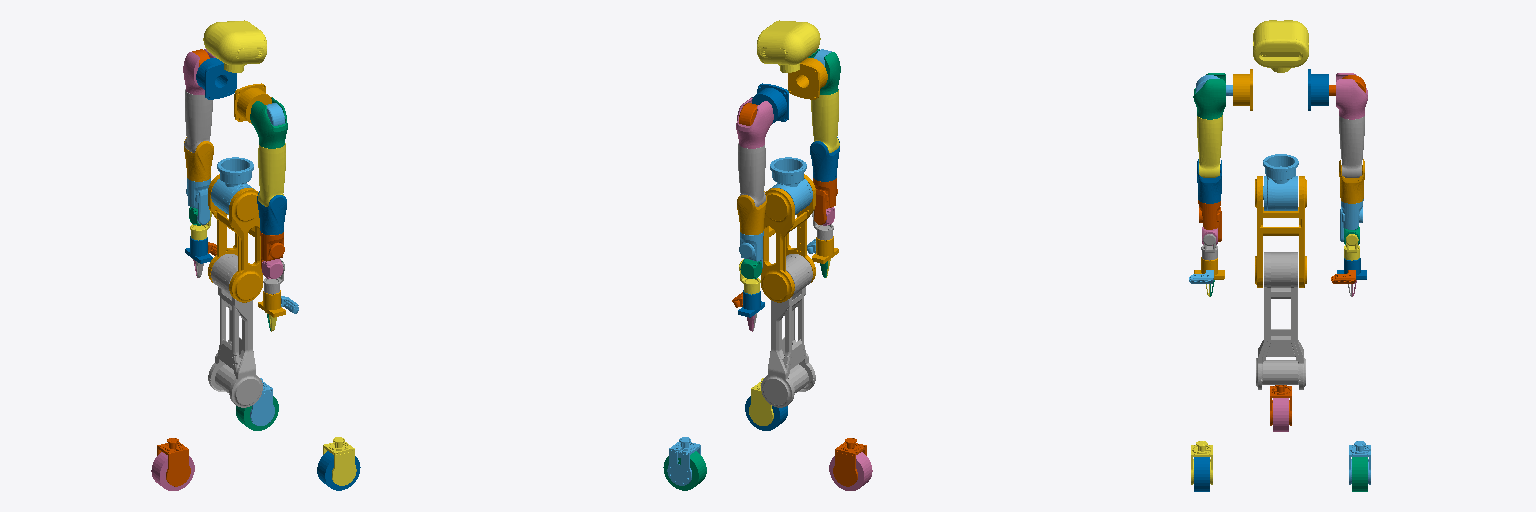
--- What the picture shows (computed from the rendered views, not written in the file) ---
Views: 3 orthographic renders of the robot side by side, from view 1: azimuth 30°, elevation 25°; view 2: azimuth 150°, elevation 25°; view 3: azimuth 270°, elevation 25°.
Robot: r1_pro_with_gripper — 36 links, 35 joints (21 revolute, 3 continuous, 4 prismatic, 7 fixed); root link base_link; default pose: every joint at zero.
Visible links, largest first — view 1: torso_link1, torso_link2, zed_link, torso_link3, right_arm_link3, left_arm_link3, left_arm_base_link, right_arm_link2, steer_motor_link3, steer_motor_link2, left_arm_link4, right_arm_link4 (+7 smaller); view 2: torso_link1, torso_link2, zed_link, torso_link3, left_arm_link3, right_arm_link3, right_arm_base_link, left_arm_link2, steer_motor_link3, steer_motor_link1, right_arm_link4, left_arm_link4 (+7 smaller); view 3: torso_link1, zed_link, torso_link2, torso_link3, right_arm_link3, left_arm_link3, right_arm_link2, left_arm_link2, left_arm_base_link, left_arm_link4, right_arm_link4, right_arm_base_link (+5 smaller).
Link boxes in pixels (<box>): torso_link1: <box>208,254,262,407</box>; torso_link2: <box>208,174,262,302</box>; zed_link: <box>203,20,266,72</box>; torso_link3: <box>211,157,253,214</box>; right_arm_link3: <box>258,143,285,206</box>; left_arm_link3: <box>184,89,212,152</box>; left_arm_base_link: <box>196,58,236,99</box>; right_arm_link2: <box>250,97,287,148</box>; steer_motor_link3: <box>157,438,190,486</box>; steer_motor_link2: <box>323,437,356,485</box>; left_arm_link4: <box>184,137,213,181</box>; right_arm_link4: <box>257,191,286,234</box>; torso_link1: <box>761,254,815,407</box>; torso_link2: <box>761,174,815,302</box>; zed_link: <box>757,20,820,72</box>; torso_link3: <box>770,157,812,214</box>; left_arm_link3: <box>738,143,765,206</box>; right_arm_link3: <box>811,90,839,152</box>; right_arm_base_link: <box>788,58,827,99</box>; left_arm_link2: <box>736,97,773,148</box>; steer_motor_link3: <box>833,438,866,486</box>; steer_motor_link1: <box>667,437,700,485</box>; right_arm_link4: <box>810,137,839,181</box>; left_arm_link4: <box>737,191,766,234</box>; torso_link1: <box>1256,252,1305,389</box>; zed_link: <box>1253,20,1308,72</box>; torso_link2: <box>1255,176,1306,287</box>; torso_link3: <box>1263,154,1298,210</box>; right_arm_link3: <box>1197,115,1222,177</box>; left_arm_link3: <box>1339,116,1364,177</box>; right_arm_link2: <box>1193,73,1225,119</box>; left_arm_link2: <box>1336,73,1367,119</box>; left_arm_base_link: <box>1308,69,1328,110</box>; left_arm_link4: <box>1339,159,1364,203</box>; right_arm_link4: <box>1197,159,1221,203</box>; right_arm_base_link: <box>1233,69,1252,110</box>.
Bounding box of the posed robot: 0.636 × 0.6465 × 1.7 m (x, y, z).
34 mesh visuals loaded from 36 distinct referenced files (34 OBJ); not drawn: 2 (reference not matched to a file when rendering).

The robot description file, URDF, robot "r1_pro_with_gripper":
<?xml version="1.0" encoding="utf-8"?>
<!-- This URDF was automatically created by SolidWorks to URDF Exporter! Originally created by Stephen Brawner ([email redacted]) 
     Commit Version: 1.6.0-4-g7f85cfe  Build Version: 1.6.7995.38578
     For more information, please see http://wiki.ros.org/sw_urdf_exporter -->
<robot
  name="r1_pro_with_gripper">
  <link
    name="base_link">
    <inertial>
      <origin
        xyz="-0.049262 -8.8054E-05 0.18255"
        rpy="0 0 0" />
      <mass
        value="47.63" />
      <inertia
        ixx="1.5812"
        ixy="-1.0625E-05"
        ixz="0.053601"
        iyy="1.4648"
        iyz="5.7054E-06"
        izz="2.835" />
    </inertial>
    <visual>
      <origin
        xyz="0 0 0"
        rpy="0 0 0" />
      <geometry>
        <mesh
          filename="meshes/base_link.obj" />
      </geometry>
    </visual>
    <collision>
      <origin
        xyz="0 0 0"
        rpy="0 0 0" />
      <geometry>
        <mesh
          filename="meshes/base_link.obj" />
      </geometry>
    </collision>
  </link>
  <link
    name="steer_motor_link1">
    <inertial>
      <origin
        xyz="7.7174E-06 -0.004623 -0.049428"
        rpy="0 0 0" />
      <mass
        value="1.5" />
      <inertia
        ixx="0.00022164"
        ixy="-3.529E-09"
        ixz="3.4267E-09"
        iyy="0.00032908"
        iyz="-7.5872E-08"
        izz="0.00015872" />
    </inertial>
    <visual>
      <origin
        xyz="0 0 0"
        rpy="0 0 0" />
      <geometry>
        <mesh
          filename="meshes/steer_motor_link1.obj" />
      </geometry>
    </visual>
    <collision>
      <origin
        xyz="0 0 0"
        rpy="0 0 0" />
      <geometry>
        <mesh
          filename="meshes/steer_motor_link1.obj" />
      </geometry>
    </collision>
  </link>
  <joint
    name="steer_motor_joint1"
    type="revolute">
    <origin
      xyz="0.16897 0.28 0.15765"
      rpy="0 0 0" />
    <parent
      link="base_link" />
    <child
      link="steer_motor_link1" />
    <axis
      xyz="0 0 1" />
    <limit
      lower="-3.1416"
      upper="3.1416"
      effort="50"
      velocity="20" />
  </joint>
  <link
    name="wheel_motor_link1">
    <inertial>
      <origin
        xyz="1.6481E-10 -1.6203E-10 -9.455E-10"
        rpy="0 0 0" />
      <mass
        value="1.5" />
      <inertia
        ixx="0.0012628"
        ixy="1.0701E-10"
        ixz="5.7971E-09"
        iyy="0.0020893"
        iyz="1.2406E-09"
        izz="0.0012628" />
    </inertial>
    <visual>
      <origin
        xyz="0 0 0"
        rpy="0 0 0" />
      <geometry>
        <mesh
          filename="meshes/wheel_motor_link1.obj" />
      </geometry>
    </visual>
    <collision>
      <origin
        xyz="0 0 0"
        rpy="0 0 0" />
      <geometry>
        <mesh
          filename="meshes/wheel_motor_link1.obj" />
      </geometry>
    </collision>
  </link>
  <joint
    name="wheel_motor_joint1"
    type="continuous">
    <origin
      xyz="0 0 -0.08765"
      rpy="0 0 0" />
    <parent
      link="steer_motor_link1" />
    <child
      link="wheel_motor_link1" />
    <axis
      xyz="0 1 0" />
  </joint>
  <link
    name="steer_motor_link2">
    <inertial>
      <origin
        xyz="6.044E-06 0.00010023 -0.052223"
        rpy="0 0 0" />
      <mass
        value="1.5" />
      <inertia
        ixx="0.0002535"
        ixy="-4.9113E-09"
        ixz="5.8918E-09"
        iyy="0.00037037"
        iyz="-2.9177E-07"
        izz="0.000163" />
    </inertial>
    <visual>
      <origin
        xyz="0 0 0"
        rpy="0 0 0" />
      <geometry>
        <mesh
          filename="meshes/steer_motor_link2.obj" />
      </geometry>
    </visual>
    <collision>
      <origin
        xyz="0 0 0"
        rpy="0 0 0" />
      <geometry>
        <mesh
          filename="meshes/steer_motor_link2.obj" />
      </geometry>
    </collision>
  </link>
  <joint
    name="steer_motor_joint2"
    type="revolute">
    <origin
      xyz="0.16897 -0.28 0.15765"
      rpy="0 0 0" />
    <parent
      link="base_link" />
    <child
      link="steer_motor_link2" />
    <axis
      xyz="0 0 1" />
    <limit
      lower="-3.1416"
      upper="3.1416"
      effort="50"
      velocity="20" />
  </joint>
  <link
    name="wheel_motor_link2">
    <inertial>
      <origin
        xyz="1.6448E-10 -1.616E-10 -9.4549E-10"
        rpy="0 0 0" />
      <mass
        value="1.5" />
      <inertia
        ixx="0.0012628"
        ixy="1.0701E-10"
        ixz="5.7971E-09"
        iyy="0.0020893"
        iyz="1.2406E-09"
        izz="0.0012628" />
    </inertial>
    <visual>
      <origin
        xyz="0 0 0"
        rpy="0 0 0" />
      <geometry>
        <mesh
          filename="meshes/wheel_motor_link2.obj" />
      </geometry>
    </visual>
    <collision>
      <origin
        xyz="0 0 0"
        rpy="0 0 0" />
      <geometry>
        <mesh
          filename="meshes/wheel_motor_link2.obj" />
      </geometry>
    </collision>
  </link>
  <joint
    name="wheel_motor_joint2"
    type="continuous">
    <origin
      xyz="0 0 -0.08765"
      rpy="0 0 0" />
    <parent
      link="steer_motor_link2" />
    <child
      link="wheel_motor_link2" />
    <axis
      xyz="0 1 0" />
  </joint>
  <link
    name="steer_motor_link3">
    <inertial>
      <origin
        xyz="-6.029E-06 -0.00010167 -0.052221"
        rpy="0 0 0" />
      <mass
        value="1.5" />
      <inertia
        ixx="0.0002535"
        ixy="-4.6767E-09"
        ixz="-3.5903E-09"
        iyy="0.00037036"
        iyz="2.9246E-07"
        izz="0.000163" />
    </inertial>
    <visual>
      <origin
        xyz="0 0 0"
        rpy="0 0 0" />
      <geometry>
        <mesh
          filename="meshes/steer_motor_link3.obj" />
      </geometry>
    </visual>
    <collision>
      <origin
        xyz="0 0 0"
        rpy="0 0 0" />
      <geometry>
        <mesh
          filename="meshes/steer_motor_link3.obj" />
      </geometry>
    </collision>
  </link>
  <joint
    name="steer_motor_joint3"
    type="revolute">
    <origin
      xyz="-0.32703 0 0.15765"
      rpy="0 0 0" />
    <parent
      link="base_link" />
    <child
      link="steer_motor_link3" />
    <axis
      xyz="0 0 1" />
    <limit
      lower="-3.1416"
      upper="3.1416"
      effort="50"
      velocity="20" />
  </joint>
  <link
    name="wheel_motor_link3">
    <inertial>
      <origin
        xyz="-2.443E-09 1.4779E-12 5.1754E-12"
        rpy="0 0 0" />
      <mass
        value="1.5" />
      <inertia
        ixx="0.0012628"
        ixy="1.1439E-10"
        ixz="5.7894E-09"
        iyy="0.0020893"
        iyz="1.2052E-09"
        izz="0.0012628" />
    </inertial>
    <visual>
      <origin
        xyz="0 0 0"
        rpy="0 0 0" />
      <geometry>
        <mesh
          filename="meshes/wheel_motor_link3.obj" />
      </geometry>
    </visual>
    <collision>
      <origin
        xyz="0 0 0"
        rpy="0 0 0" />
      <geometry>
        <mesh
          filename="meshes/wheel_motor_link3.obj" />
      </geometry>
    </collision>
  </link>
  <joint
    name="wheel_motor_joint3"
    type="continuous">
    <origin
      xyz="0 0 -0.08765"
      rpy="0 0 0" />
    <parent
      link="steer_motor_link3" />
    <child
      link="wheel_motor_link3" />
    <axis
      xyz="0 1 0" />
  </joint>
  <link
    name="torso_link1">
    <inertial>
      <origin
        xyz="0.00065636 0.0032244 0.23142"
        rpy="0 0 0" />
      <mass
        value="5.72" />
      <inertia
        ixx="0.10931"
        ixy="7.7894E-06"
        ixz="-0.00017473"
        iyy="0.10736"
        iyz="0.00013778"
        izz="0.0081222" />
    </inertial>
    <visual>
      <origin
        xyz="0 0 0"
        rpy="0 0 0" />
      <geometry>
        <mesh
          filename="meshes/torso_link1.obj" />
      </geometry>
    </visual>
    <collision>
      <origin
        xyz="0 0 0"
        rpy="0 0 0" />
      <geometry>
        <mesh
          filename="meshes/torso_link1.obj" />
      </geometry>
    </collision>
  </link>
  <joint
    name="torso_joint1"
    type="revolute">
    <origin
      xyz="-0.079032 0 0.34265"
      rpy="0 0 0" />
    <parent
      link="base_link" />
    <child
      link="torso_link1" />
    <axis
      xyz="0 1 0" />
    <limit
      lower="-1.1345"
      upper="1.8326"
      effort="100"
      velocity="2.5" />
  </joint>
  <link
    name="torso_link2">
    <inertial>
      <origin
        xyz="0.0052517 0.014411 0.15711"
        rpy="0 0 0" />
      <mass
        value="3.5" />
      <inertia
        ixx="0.026081"
        ixy="-3.3436E-07"
        ixz="0.00024541"
        iyy="0.027574"
        iyz="4.2283E-07"
        izz="0.0018515" />
    </inertial>
    <visual>
      <origin
        xyz="0 0 0"
        rpy="0 0 0" />
      <geometry>
        <mesh
          filename="meshes/torso_link2.obj" />
      </geometry>
    </visual>
    <collision>
      <origin
        xyz="0 0 0"
        rpy="0 0 0" />
      <geometry>
        <mesh
          filename="meshes/torso_link2.obj" />
      </geometry>
    </collision>
  </link>
  <joint
    name="torso_joint2"
    type="revolute">
    <origin
      xyz="0 0 0.4"
      rpy="0 0 0" />
    <parent
      link="torso_link1" />
    <child
      link="torso_link2" />
    <axis
      xyz="0 1 0" />
    <limit
      lower="-2.7925"
      upper="2.5307"
      effort="100"
      velocity="2.5" />
  </joint>
  <link
    name="torso_link3">
    <inertial>
      <origin
        xyz="-9.8337E-07 -0.0055146 0.020182"
        rpy="0 0 0" />
      <mass
        value="3.4" />
      <inertia
        ixx="0.0016099"
        ixy="3.5899E-07"
        ixz="2.5497E-07"
        iyy="0.0023011"
        iyz="1.367E-05"
        izz="0.0017027" />
    </inertial>
    <visual>
      <origin
        xyz="0 0 0"
        rpy="0 0 0" />
      <geometry>
        <mesh
          filename="meshes/torso_link3.obj" />
      </geometry>
    </visual>
    <collision>
      <origin
        xyz="0 0 0"
        rpy="0 0 0" />
      <geometry>
        <mesh
          filename="meshes/torso_link3.obj" />
      </geometry>
    </collision>
  </link>
  <joint
    name="torso_joint3"
    type="revolute">
    <origin
      xyz="0 0.0001005 0.3"
      rpy="0 0 0" />
    <parent
      link="torso_link2" />
    <child
      link="torso_link3" />
    <axis
      xyz="0 -1 0" />
    <limit
      lower="-1.8326"
      upper="1.5708"
      effort="100"
      velocity="2.5" />
  </joint>
  <link
    name="torso_link4">
    <inertial>
      <origin
        xyz="0.0049601 -1.2497E-05 0.21237"
        rpy="0 0 0" />
      <mass
        value="5" />
      <inertia
        ixx="0.026836"
        ixy="1.3048E-05"
        ixz="-0.00014074"
        iyy="0.013023"
        iyz="4.6641E-07"
        izz="0.021541" />
    </inertial>
    <visual>
      <origin
        xyz="0 0 0"
        rpy="0 0 0" />
      <geometry>
        <mesh
          filename="meshes/torso_link4.obj" />
      </geometry>
    </visual>
    <collision>
      <origin
        xyz="0 0 0"
        rpy="0 0 0" />
      <geometry>
        <mesh
          filename="meshes/torso_link4.obj" />
      </geometry>
    </collision>
  </link>
  <joint
    name="torso_joint4"
    type="revolute">
    <origin
      xyz="0 -0.00010015 0.09962"
      rpy="0 0 0" />
    <parent
      link="torso_link3" />
    <child
      link="torso_link4" />
    <axis
      xyz="0 0 1" />
    <limit
      lower="-3.0543"
      upper="3.0543"
      effort="100"
      velocity="2.5" />
  </joint>
  <link
    name="zed_link">
    <inertial>
      <origin
        xyz="0.060004 0.015906 -0.068413"
        rpy="0 0 0" />
      <mass
        value="2.05" />
      <inertia
        ixx="0.010375"
        ixy="1.8965E-07"
        ixz="1.3342E-08"
        iyy="0.014618"
        iyz="0.00028961"
        izz="0.012229" />
    </inertial>
    <visual>
      <origin
        xyz="0 0 0"
        rpy="0 0 0" />
      <geometry>
        <mesh
          filename="meshes/zed_link.obj" />
      </geometry>
    </visual>
    <collision>
      <origin
        xyz="0 0 0"
        rpy="0 0 0" />
      <geometry>
        <mesh
          filename="meshes/zed_link.obj" />
      </geometry>
    </collision>
  </link>
  <joint
    name="zed_joint"
    type="fixed">
    <origin
      xyz="0.065511 0.060003 0.47598"
      rpy="-1.9199 0 -1.5708" />
    <parent
      link="torso_link4" />
    <child
      link="zed_link" />
    <axis
      xyz="0 0 0" />
  </joint>
  <link
    name="left_arm_base_link">
    <inertial>
      <origin
        xyz="0.00026981 0.034587 1.3734E-08"
        rpy="0 0 0" />
      <mass
        value="1.48" />
      <inertia
        ixx="0.0010298"
        ixy="5.2194E-06"
        ixz="-1.2182E-07"
        iyy="0.0014076"
        iyz="-3.9334E-09"
        izz="0.0010201" />
    </inertial>
    <visual>
      <origin
        xyz="0 0 0"
        rpy="0 0 0" />
      <geometry>
        <mesh
          filename="meshes/left_arm_base_link.obj" />
      </geometry>
    </visual>
    <collision>
      <origin
        xyz="0 0 0"
        rpy="0 0 0" />
      <geometry>
        <mesh
          filename="meshes/left_arm_base_link.obj" />
      </geometry>
    </collision>
  </link>
  <joint
    name="left_arm_base_joint"
    type="fixed">
    <origin
      xyz="-0.00048618 0.097234 0.30302"
      rpy="0 0 0" />
    <parent
      link="torso_link4" />
    <child
      link="left_arm_base_link" />
    <axis
      xyz="0 0 0" />
  </joint>
  <link
    name="left_arm_link1">
    <inertial>
      <origin
        xyz="0.00042258 0.074131 7.9156E-05"
        rpy="0 0 0" />
      <mass
        value="1.135" />
      <inertia
        ixx="0.00061603"
        ixy="-1.1635E-06"
        ixz="-6.9725E-07"
        iyy="0.00030259"
        iyz="-6.2894E-07"
        izz="0.00047136" />
    </inertial>
    <visual>
      <origin
        xyz="0 0 0"
        rpy="0 0 0" />
      <geometry>
        <mesh
          filename="meshes/left_arm_link1.obj" />
      </geometry>
    </visual>
    <collision>
      <origin
        xyz="0 0 0"
        rpy="0 0 0" />
      <geometry>
        <mesh
          filename="meshes/left_arm_link1.obj" />
      </geometry>
    </collision>
  </link>
  <joint
    name="left_arm_joint1"
    type="revolute">
    <origin
      xyz="0 0.0735 0"
      rpy="0 0 0" />
    <parent
      link="left_arm_base_link" />
    <child
      link="left_arm_link1" />
    <axis
      xyz="0 1 0" />
    <limit
      lower="-4.4506"
      upper="1.3090"
      effort="55"
      velocity="7.1209" />
  </joint>
  <link
    name="left_arm_link2">
    <inertial>
      <origin
        xyz="-0.026826 -0.0040392 -0.031835"
        rpy="0 0 0" />
      <mass
        value="0.92" />
      <inertia
        ixx="0.00037378"
        ixy="-7.5909E-07"
        ixz="2.9042E-06"
        iyy="0.00033872"
        iyz="1.2166E-05"
        izz="0.00032361" />
    </inertial>
    <visual>
      <origin
        xyz="0 0 0"
        rpy="0 0 0" />
      <geometry>
        <mesh
          filename="meshes/left_arm_link2.obj" />
      </geometry>
    </visual>
    <collision>
      <origin
        xyz="0 0 0"
        rpy="0 0 0" />
      <geometry>
        <mesh
          filename="meshes/left_arm_link2.obj" />
      </geometry>
    </collision>
  </link>
  <joint
    name="left_arm_joint2"
    type="revolute">
    <origin
      xyz="0.025012 0.081265 0"
      rpy="0 0 0" />
    <parent
      link="left_arm_link1" />
    <child
      link="left_arm_link2" />
    <axis
      xyz="1 0 0" />
    <limit
      lower="-0.1745"
      upper="3.1416"
      effort="55"
      velocity="7.1209" />
  </joint>
  <link
    name="left_arm_link3">
    <inertial>
      <origin
        xyz="0.0053849 -0.00086892 -0.1126"
        rpy="0 0 0" />
      <mass
        value="1.245" />
      <inertia
        ixx="0.00072339"
        ixy="-3.3477E-06"
        ixz="-0.00012824"
        iyy="0.00073856"
        iyz="-8.3574E-06"
        izz="0.00037352" />
    </inertial>
    <visual>
      <origin
        xyz="0 0 0"
        rpy="0 0 0" />
      <geometry>
        <mesh
          filename="meshes/left_arm_link3.obj" />
      </geometry>
    </visual>
    <collision>
      <origin
        xyz="0 0 0"
        rpy="0 0 0" />
      <geometry>
        <mesh
          filename="meshes/left_arm_link3.obj" />
      </geometry>
    </collision>
  </link>
  <joint
    name="left_arm_joint3"
    type="revolute">
    <origin
      xyz="-0.025012 0 -0.1155"
      rpy="0 0 0" />
    <parent
      link="left_arm_link2" />
    <child
      link="left_arm_link3" />
    <axis
      xyz="0 0 1" />
    <limit
      lower="-2.356196"
      upper="2.356196"
      effort="25"
      velocity="8.3776" />
  </joint>
  <link
    name="left_arm_link4">
    <inertial>
      <origin
        xyz="-0.0011018 -0.036243 -0.042164"
        rpy="0 0 0" />
      <mass
        value="0.827" />
      <inertia
        ixx="0.00013884"
        ixy="7.8394E-08"
        ixz="3.5926E-06"
        iyy="0.00019751"
        iyz="1.4227E-06"
        izz="0.00010229" />
    </inertial>
    <visual>
      <origin
        xyz="0 0 0"
        rpy="0 0 0" />
      <geometry>
        <mesh
          filename="meshes/left_arm_link4.obj" />
      </geometry>
    </visual>
    <collision>
      <origin
        xyz="0 0 0"
        rpy="0 0 0" />
      <geometry>
        <mesh
          filename="meshes/left_arm_link4.obj" />
      </geometry>
    </collision>
  </link>
  <joint
    name="left_arm_joint4"
    type="revolute">
    <origin
      xyz="0 0.035065 -0.1945"
      rpy="0 0 0" />
    <parent
      link="left_arm_link3" />
    <child
      link="left_arm_link4" />
    <axis
      xyz="0 1 0" />
    <limit
      lower="-2.0944"
      upper="0.3491"
      effort="25"
      velocity="8.3776" />
  </joint>
  <link
    name="left_arm_link5">
    <inertial>
      <origin
        xyz="3.7881E-07 -0.0028035 -0.062981"
        rpy="0 0 0" />
      <mass
        value="0.939" />
      <inertia
        ixx="0.00070496"
        ixy="1.4329E-08"
        ixz="-2.9036E-09"
        iyy="0.00067006"
        iyz="-5.1951E-05"
        izz="0.00032998" />
    </inertial>
    <visual>
      <origin
        xyz="0 0 0"
        rpy="0 0 0" />
      <geometry>
        <mesh
          filename="meshes/left_arm_link5.obj" />
      </geometry>
    </visual>
    <collision>
      <origin
        xyz="0 0 0"
        rpy="0 0 0" />
      <geometry>
        <mesh
          filename="meshes/left_arm_link5.obj" />
      </geometry>
    </collision>
  </link>
  <joint
    name="left_arm_joint5"
    type="revolute">
    <origin
      xyz="0 -0.035065 -0.095"
      rpy="0 0 0" />
    <parent
      link="left_arm_link4" />
    <child
      link="left_arm_link5" />
    <axis
      xyz="0 0 1" />
    <limit
      lower="-2.356196"
      upper="2.356196"
      effort="18"
      velocity="10.4720" />
  </joint>
  <link
    name="left_arm_link6">
    <inertial>
      <origin
        xyz="0.0017919 0.027487 0.00025471"
        rpy="0 0 0" />
      <mass
        value="0.527" />
      <inertia
        ixx="8.5442E-05"
        ixy="-1.5351E-07"
        ixz="8.3797E-07"
        iyy="8.1186E-05"
        iyz="-2.1972E-08"
        izz="8.2736E-05" />
    </inertial>
    <visual>
      <origin
        xyz="0 0 0"
        rpy="0 0 0" />
      <geometry>
        <mesh
          filename="meshes/left_arm_link6.obj" />
      </geometry>
    </visual>
    <collision>
      <origin
        xyz="0 0 0"
        rpy="0 0 0" />
      <geometry>
        <mesh
          filename="meshes/left_arm_link6.obj" />
      </geometry>
    </collision>
  </link>
  <joint
    name="left_arm_joint6"
    type="revolute">
    <origin
      xyz="0 -0.028 -0.16305"
      rpy="0 0 0" />
    <parent
      link="left_arm_link5" />
    <child
      link="left_arm_link6" />
    <axis
      xyz="0 1 0" />
    <limit
      lower="-1.047198"
      upper="1.047198"
      effort="18"
      velocity="10.4720" />
  </joint>
  <link
    name="left_arm_link7">
    <inertial>
      <origin
        xyz="-0.022945 8.4007E-07 -0.056525"
        rpy="0 0 0" />
      <mass
        value="0.185" />
      <inertia
        ixx="4.2564E-05"
        ixy="-2.1577E-09"
        ixz="-6.9368E-06"
        iyy="4.5515E-05"
        iyz="-1.9389E-09"
        izz="4.7946E-05" />
    </inertial>
    <visual>
      <origin
        xyz="0 0 0"
        rpy="0 0 0" />
      <geometry>
        <mesh
          filename="meshes/left_arm_link7.obj" />
      </geometry>
    </visual>
    <collision>
      <origin
        xyz="0 0 0"
        rpy="0 0 0" />
      <geometry>
        <mesh
          filename="meshes/left_arm_link7.obj" />
      </geometry>
    </collision>
  </link>
  <joint
    name="left_arm_joint7"
    type="revolute">
    <origin
      xyz="0.0295 0.028 0"
      rpy="0 0 0" />
    <parent
      link="left_arm_link6" />
    <child
      link="left_arm_link7" />
    <axis
      xyz="1 0 0" />
    <limit
      lower="-1.5708"
      upper="1.5708"
      effort="18"
      velocity="10.4720" />
  </joint>
  <link
    name="left_gripper_link">
    <inertial>
      <origin
        xyz="-2.2589E-07 -5.2175E-08 0.031107"
        rpy="0 0 0" />
      <mass
        value="0.24625" />
      <inertia
        ixx="0.00016511"
        ixy="9.5318E-07"
        ixz="5.0942E-10"
        iyy="9.8651E-05"
        iyz="-1.8604E-10"
        izz="0.00017588" />
    </inertial>
    <visual>
      <origin
        xyz="0 0 0"
        rpy="0 0 0" />
      <geometry>
        <mesh
          filename="meshes/left_gripper_link.obj" />
      </geometry>
    </visual>
    <collision>
      <origin
        xyz="0 0 0"
        rpy="0 0 0" />
      <geometry>
        <mesh
          filename="meshes/left_gripper_link.obj" />
      </geometry>
    </collision>
  </link>
  <joint
    name="left_gripper_joint"
    type="fixed">
    <origin
      xyz="-0.0295 0 -0.16065"
      rpy="0 0 0" />
    <parent
      link="left_arm_link7" />
    <child
      link="left_gripper_link" />
    <axis
      xyz="0 0 0" />
  </joint>
  <link
    name="left_realsense_link">
    <inertial>
      <origin
        xyz="0.0058264 -0.02222 -0.017353"
        rpy="0 0 0" />
      <mass
        value="0.175" />
      <inertia
        ixx="2.3234E-05"
        ixy="-2.801E-06"
        ixz="-1.4377E-06"
        iyy="7.0119E-06"
        iyz="-1.2674E-06"
        izz="2.5513E-05" />
    </inertial>
    <visual>
      <origin
        xyz="0 0 0"
        rpy="0 0 0" />
      <geometry>
        <mesh
          filename="meshes/left_realsense_link.obj" />
      </geometry>
    </visual>
    <collision>
      <origin
        xyz="0 0 0"
        rpy="0 0 0" />
      <geometry>
        <mesh
          filename="meshes/left_realsense_link.obj" />
      </geometry>
    </collision>
  </link>
  <joint
    name="left_realsense_joint"
    type="fixed">
    <origin
      xyz="0.05051 0.0028934 0.0051317"
      rpy="-3.1376 -0.43631 3.1399" />
    <parent
      link="left_gripper_link" />
    <child
      link="left_realsense_link" />
    <axis
      xyz="0 0 0" />
  </joint>
  <link
    name="left_gripper_finger_link1">
    <inertial>
      <origin
        xyz="0.0056571 -0.015027 0.01959"
        rpy="0 0 0" />
      <mass
        value="0.020196" />
      <inertia
        ixx="6.4827E-06"
        ixy="7.3969E-08"
        ixz="-4.4977E-08"
        iyy="5.7129E-06"
        iyz="-3.9973E-07"
        izz="2.4057E-06" />
    </inertial>
    <visual>
      <origin
        xyz="0 0 0"
        rpy="0 0 0" />
      <geometry>
        <mesh
          filename="meshes/left_gripper_finger_link1.obj" />
      </geometry>
    </visual>
    <collision>
      <origin
        xyz="0 0 0"
        rpy="0 0 0" />
      <geometry>
        <mesh
          filename="meshes/left_gripper_finger_link1.obj" />
      </geometry>
    </collision>
  </link>
  <joint
    name="left_gripper_finger_joint1"
    type="prismatic">
    <origin
      xyz="-8.8709E-05 0.013453 -0.03689"
      rpy="0 0 0" />
    <parent
      link="left_gripper_link" />
    <child
      link="left_gripper_finger_link1" />
    <axis
      xyz="0 1 0" />
    <limit
      lower="0"
      upper="0.05"
      effort="100"
      velocity="0.25" />
  </joint>
  <link
    name="left_gripper_finger_link2">
    <inertial>
      <origin
        xyz="-0.0056573 0.015027 0.01959"
        rpy="0 0 0" />
      <mass
        value="0.020196" />
      <inertia
        ixx="6.4827E-06"
        ixy="7.3965E-08"
        ixz="4.5014E-08"
        iyy="5.7129E-06"
        iyz="3.9974E-07"
        izz="2.4057E-06" />
    </inertial>
    <visual>
      <origin
        xyz="0 0 0"
        rpy="0 0 0" />
      <geometry>
        <mesh
          filename="meshes/left_gripper_finger_link2.obj" />
      </geometry>
    </visual>
    <collision>
      <origin
        xyz="0 0 0"
        rpy="0 0 0" />
      <geometry>
        <mesh
          filename="meshes/left_gripper_finger_link2.obj" />
      </geometry>
    </collision>
  </link>
  <joint
    name="left_gripper_finger_joint2"
    type="prismatic">
    <origin
      xyz="8.9046E-05 -0.013453 -0.03689"
      rpy="0 0 0" />
    <parent
      link="left_gripper_link" />
    <child
      link="left_gripper_finger_link2" />
    <axis
      xyz="0 1 0" />
    <limit
      lower="-0.05"
      upper="0"
      effort="100"
      velocity="0.25" />
  </joint>
  <link
    name="right_arm_base_link">
    <inertial>
      <origin
        xyz="-0.00026981 -0.034587 -3.669E-08"
        rpy="0 0 0" />
      <mass
        value="1.48" />
      <inertia
        ixx="0.0010298"
        ixy="5.2194E-06"
        ixz="1.2188E-07"
        iyy="0.0014076"
        iyz="5.1015E-09"
        izz="0.0010201" />
    </inertial>
    <visual>
      <origin
        xyz="0 0 0"
        rpy="0 0 0" />
      <geometry>
        <mesh
          filename="meshes/right_arm_base_link.obj" />
      </geometry>
    </visual>
    <collision>
      <origin
        xyz="0 0 0"
        rpy="0 0 0" />
      <geometry>
        <mesh
          filename="meshes/right_arm_base_link.obj" />
      </geometry>
    </collision>
  </link>
  <joint
    name="right_arm_base_joint"
    type="fixed">
    <origin
      xyz="-0.00048706 -0.097236 0.30302"
      rpy="0 0 0" />
    <parent
      link="torso_link4" />
    <child
      link="right_arm_base_link" />
    <axis
      xyz="0 0 0" />
  </joint>
  <link
    name="right_arm_link1">
    <inertial>
      <origin
        xyz="-0.00042261 -0.074132 7.8365E-05"
        rpy="0 0 0" />
      <mass
        value="1.135" />
      <inertia
        ixx="0.00061603"
        ixy="-1.1635E-06"
        ixz="6.9785E-07"
        iyy="0.00030259"
        iyz="6.2359E-07"
        izz="0.00047135" />
    </inertial>
    <visual>
      <origin
        xyz="0 0 0"
        rpy="0 0 0" />
      <geometry>
        <mesh
          filename="meshes/right_arm_link1.obj" />
      </geometry>
    </visual>
    <collision>
      <origin
        xyz="0 0 0"
        rpy="0 0 0" />
      <geometry>
        <mesh
          filename="meshes/right_arm_link1.obj" />
      </geometry>
    </collision>
  </link>
  <joint
    name="right_arm_joint1"
    type="revolute">
    <origin
      xyz="0 -0.0735 0"
      rpy="0 0 0" />
    <parent
      link="right_arm_base_link" />
    <child
      link="right_arm_link1" />
    <axis
      xyz="0 1 0" />
    <limit
      lower="-4.4506"
      upper="1.3090"
      effort="55"
      velocity="7.1209" />
  </joint>
  <link
    name="right_arm_link2">
    <inertial>
      <origin
        xyz="-0.022361 0.0049527 -0.032732"
        rpy="0 0 0" />
      <mass
        value="0.92" />
      <inertia
        ixx="0.00038179"
        ixy="2.6532E-07"
        ixz="-3.6367E-06"
        iyy="0.00034188"
        iyz="-8.4407E-06"
        izz="0.00032895" />
    </inertial>
    <visual>
      <origin
        xyz="0 0 0"
        rpy="0 0 0" />
      <geometry>
        <mesh
          filename="meshes/right_arm_link2.obj" />
      </geometry>
    </visual>
    <collision>
      <origin
        xyz="0 0 0"
        rpy="0 0 0" />
      <geometry>
        <mesh
          filename="meshes/right_arm_link2.obj" />
      </geometry>
    </collision>
  </link>
  <joint
    name="right_arm_joint2"
    type="revolute">
    <origin
      xyz="0.023988 -0.081265 0"
      rpy="0 0 0" />
    <parent
      link="right_arm_link1" />
    <child
      link="right_arm_link2" />
    <axis
      xyz="1 0 0" />
    <limit
      lower="-3.1416"
      upper="0.1745"
      effort="55"
      velocity="7.1209" />
  </joint>
  <link
    name="right_arm_link3">
    <inertial>
      <origin
        xyz="0.0053839 -0.00087109 -0.11261"
        rpy="0 0 0" />
      <mass
        value="1.245" />
      <inertia
        ixx="0.00072336"
        ixy="-3.3628E-06"
        ixz="-0.00012821"
        iyy="0.00073854"
        iyz="-8.3749E-06"
        izz="0.00037348" />
    </inertial>
    <visual>
      <origin
        xyz="0 0 0"
        rpy="0 0 0" />
      <geometry>
        <mesh
          filename="meshes/right_arm_link3.obj" />
      </geometry>
    </visual>
    <collision>
      <origin
        xyz="0 0 0"
        rpy="0 0 0" />
      <geometry>
        <mesh
          filename="meshes/right_arm_link3.obj" />
      </geometry>
    </collision>
  </link>
  <joint
    name="right_arm_joint3"
    type="revolute">
    <origin
      xyz="-0.023988 0 -0.1155"
      rpy="0 0 0" />
    <parent
      link="right_arm_link2" />
    <child
      link="right_arm_link3" />
    <axis
      xyz="0 0 1" />
    <limit
      lower="-2.356196"
      upper="2.356196"
      effort="25"
      velocity="8.3776" />
  </joint>
  <link
    name="right_arm_link4">
    <inertial>
      <origin
        xyz="-0.00058877 -0.035687 -0.057422"
        rpy="0 0 0" />
      <mass
        value="0.827" />
      <inertia
        ixx="0.00016157"
        ixy="7.8184E-08"
        ixz="3.5925E-06"
        iyy="0.00022024"
        iyz="1.4211E-06"
        izz="0.00012683" />
    </inertial>
    <visual>
      <origin
        xyz="0 0 0"
        rpy="0 0 0" />
      <geometry>
        <mesh
          filename="meshes/right_arm_link4.obj" />
      </geometry>
    </visual>
    <collision>
      <origin
        xyz="0 0 0"
        rpy="0 0 0" />
      <geometry>
        <mesh
          filename="meshes/right_arm_link4.obj" />
      </geometry>
    </collision>
  </link>
  <joint
    name="right_arm_joint4"
    type="revolute">
    <origin
      xyz="0 0.035058 -0.1945"
      rpy="0 0 0" />
    <parent
      link="right_arm_link3" />
    <child
      link="right_arm_link4" />
    <axis
      xyz="0 1 0" />
    <limit
      lower="-2.0944"
      upper="0.3491"
      effort="25"
      velocity="8.3776" />
  </joint>
  <link
    name="right_arm_link5">
    <inertial>
      <origin
        xyz="-2.2815E-07 0.0031762 -0.07334"
        rpy="0 0 0" />
      <mass
        value="0.63" />
      <inertia
        ixx="0.00069134"
        ixy="1.4191E-08"
        ixz="3.837E-09"
        iyy="0.00065644"
        iyz="5.1952E-05"
        izz="0.00031157" />
    </inertial>
    <visual>
      <origin
        xyz="0 0 0"
        rpy="0 0 0" />
      <geometry>
        <mesh
          filename="meshes/right_arm_link5.obj" />
      </geometry>
    </visual>
    <collision>
      <origin
        xyz="0 0 0"
        rpy="0 0 0" />
      <geometry>
        <mesh
          filename="meshes/right_arm_link5.obj" />
      </geometry>
    </collision>
  </link>
  <joint
    name="right_arm_joint5"
    type="revolute">
    <origin
      xyz="0 -0.035058 -0.095"
      rpy="0 0 0" />
    <parent
      link="right_arm_link4" />
    <child
      link="right_arm_link5" />
    <axis
      xyz="0 0 1" />
    <limit
      lower="-2.356196"
      upper="2.356196"
      effort="18"
      velocity="10.4720" />
  </joint>
  <link
    name="right_arm_link6">
    <inertial>
      <origin
        xyz="0.0017914 -0.027486 0.00025485"
        rpy="0 0 0" />
      <mass
        value="0.527" />
      <inertia
        ixx="8.5442E-05"
        ixy="1.5357E-07"
        ixz="8.3693E-07"
        iyy="8.1185E-05"
        iyz="2.2221E-08"
        izz="8.2736E-05" />
    </inertial>
    <visual>
      <origin
        xyz="0 0 0"
        rpy="0 0 0" />
      <geometry>
        <mesh
          filename="meshes/right_arm_link6.obj" />
      </geometry>
    </visual>
    <collision>
      <origin
        xyz="0 0 0"
        rpy="0 0 0" />
      <geometry>
        <mesh
          filename="meshes/right_arm_link6.obj" />
      </geometry>
    </collision>
  </link>
  <joint
    name="right_arm_joint6"
    type="revolute">
    <origin
      xyz="0 0.028001 -0.16305"
      rpy="0 0 0" />
    <parent
      link="right_arm_link5" />
    <child
      link="right_arm_link6" />
    <axis
      xyz="0 1 0" />
    <limit
      lower="-1.047198"
      upper="1.047198"
      effort="18"
      velocity="10.4720" />
  </joint>
  <link
    name="right_arm_link7">
    <inertial>
      <origin
        xyz="-0.022945 2.2938E-07 -0.056523"
        rpy="0 0 0" />
      <mass
        value="0.185" />
      <inertia
        ixx="7.8535E-05"
        ixy="-9.5509E-10"
        ixz="-2.8712E-05"
        iyy="9.467E-05"
        iyz="9.104E-11"
        izz="6.1128E-05" />
    </inertial>
    <visual>
      <origin
        xyz="0 0 0"
        rpy="0 0 0" />
      <geometry>
        <mesh
          filename="meshes/right_arm_link7.obj" />
      </geometry>
    </visual>
    <collision>
      <origin
        xyz="0 0 0"
        rpy="0 0 0" />
      <geometry>
        <mesh
          filename="meshes/right_arm_link7.obj" />
      </geometry>
    </collision>
  </link>
  <joint
    name="right_arm_joint7"
    type="revolute">
    <origin
      xyz="0.0295 -0.028001 0"
      rpy="0 0 0" />
    <parent
      link="right_arm_link6" />
    <child
      link="right_arm_link7" />
    <axis
      xyz="1 0 0" />
    <limit
      lower="-1.5708"
      upper="1.5708"
      effort="18"
      velocity="10.4720" />
  </joint>
  <link
    name="right_gripper_link">
    <inertial>
      <origin
        xyz="-2.2589E-07 -5.2175E-08 0.031107"
        rpy="0 0 0" />
      <mass
        value="0.24625" />
      <inertia
        ixx="0.00016511"
        ixy="9.5318E-07"
        ixz="5.0942E-10"
        iyy="9.8651E-05"
        iyz="-1.8604E-10"
        izz="0.00017588" />
    </inertial>
    <visual>
      <origin
        xyz="0 0 0"
        rpy="0 0 0" />
      <geometry>
        <mesh
          filename="meshes/right_gripper_link.obj" />
      </geometry>
    </visual>
    <collision>
      <origin
        xyz="0 0 0"
        rpy="0 0 0" />
      <geometry>
        <mesh
          filename="meshes/right_gripper_link.obj" />
      </geometry>
    </collision>
  </link>
  <joint
    name="right_gripper_joint"
    type="fixed">
    <origin
      xyz="-0.0295 0 -0.16065"
      rpy="0 0 0" />
    <parent
      link="right_arm_link7" />
    <child
      link="right_gripper_link" />
    <axis
      xyz="0 0 0" />
  </joint>
  <link
    name="right_realsense_link">
    <inertial>
      <origin
        xyz="0.0058264 -0.02222 -0.017353"
        rpy="0 0 0" />
      <mass
        value="0.175" />
      <inertia
        ixx="2.3234E-05"
        ixy="-2.801E-06"
        ixz="-1.4377E-06"
        iyy="7.0119E-06"
        iyz="-1.2674E-06"
        izz="2.5513E-05" />
    </inertial>
    <visual>
      <origin
        xyz="0 0 0"
        rpy="0 0 0" />
      <geometry>
        <mesh
          filename="meshes/right_realsense_link.obj" />
      </geometry>
    </visual>
    <collision>
      <origin
        xyz="0 0 0"
        rpy="0 0 0" />
      <geometry>
        <mesh
          filename="meshes/right_realsense_link.obj" />
      </geometry>
    </collision>
  </link>
  <joint
    name="right_realsense_joint"
    type="fixed">
    <origin
      xyz="0.05051 0.0028934 0.0051317"
      rpy="-3.1376 -0.43631 3.1399" />
    <parent
      link="right_gripper_link" />
    <child
      link="right_realsense_link" />
    <axis
      xyz="0 0 0" />
  </joint>
  <link
    name="right_gripper_finger_link1">
    <inertial>
      <origin
        xyz="0.0056571 -0.015027 0.01959"
        rpy="0 0 0" />
      <mass
        value="0.027" />
      <inertia
        ixx="6.4827E-06"
        ixy="7.3969E-08"
        ixz="-4.4977E-08"
        iyy="5.7129E-06"
        iyz="-3.9973E-07"
        izz="2.4057E-06" />
    </inertial>
    <visual>
      <origin
        xyz="0 0 0"
        rpy="0 0 0" />
      <geometry>
        <mesh
          filename="meshes/right_gripper_finger_link1.obj" />
      </geometry>
    </visual>
    <collision>
      <origin
        xyz="0 0 0"
        rpy="0 0 0" />
      <geometry>
        <mesh
          filename="meshes/right_gripper_finger_link1.obj" />
      </geometry>
    </collision>
  </link>
  <joint
    name="right_gripper_finger_joint1"
    type="prismatic">
    <origin
      xyz="-8.8709E-05 0.013453 -0.03689"
      rpy="0 0 0" />
    <parent
      link="right_gripper_link" />
    <child
      link="right_gripper_finger_link1" />
    <axis
      xyz="0 1 0" />
    <limit
      lower="0"
      upper="0.05"
      effort="100"
      velocity="0.25" />
  </joint>
  <link
    name="right_gripper_finger_link2">
    <inertial>
      <origin
        xyz="-0.0056573 0.015027 0.01959"
        rpy="0 0 0" />
      <mass
        value="0.027" />
      <inertia
        ixx="6.4827E-06"
        ixy="7.3965E-08"
        ixz="4.5014E-08"
        iyy="5.7129E-06"
        iyz="3.9974E-07"
        izz="2.4057E-06" />
    </inertial>
    <visual>
      <origin
        xyz="0 0 0"
        rpy="0 0 0" />
      <geometry>
        <mesh
          filename="meshes/right_gripper_finger_link2.obj" />
      </geometry>
    </visual>
    <collision>
      <origin
        xyz="0 0 0"
        rpy="0 0 0" />
      <geometry>
        <mesh
          filename="meshes/right_gripper_finger_link2.obj" />
      </geometry>
    </collision>
  </link>
  <joint
    name="right_gripper_finger_joint2"
    type="prismatic">
    <origin
      xyz="8.9046E-05 -0.013453 -0.03689"
      rpy="0 0 0" />
    <parent
      link="right_gripper_link" />
    <child
      link="right_gripper_finger_link2" />
    <axis
      xyz="0 1 0" />
    <limit
      lower="-0.05"
      upper="0"
      effort="100"
      velocity="0.25" />
  </joint>
</robot>
